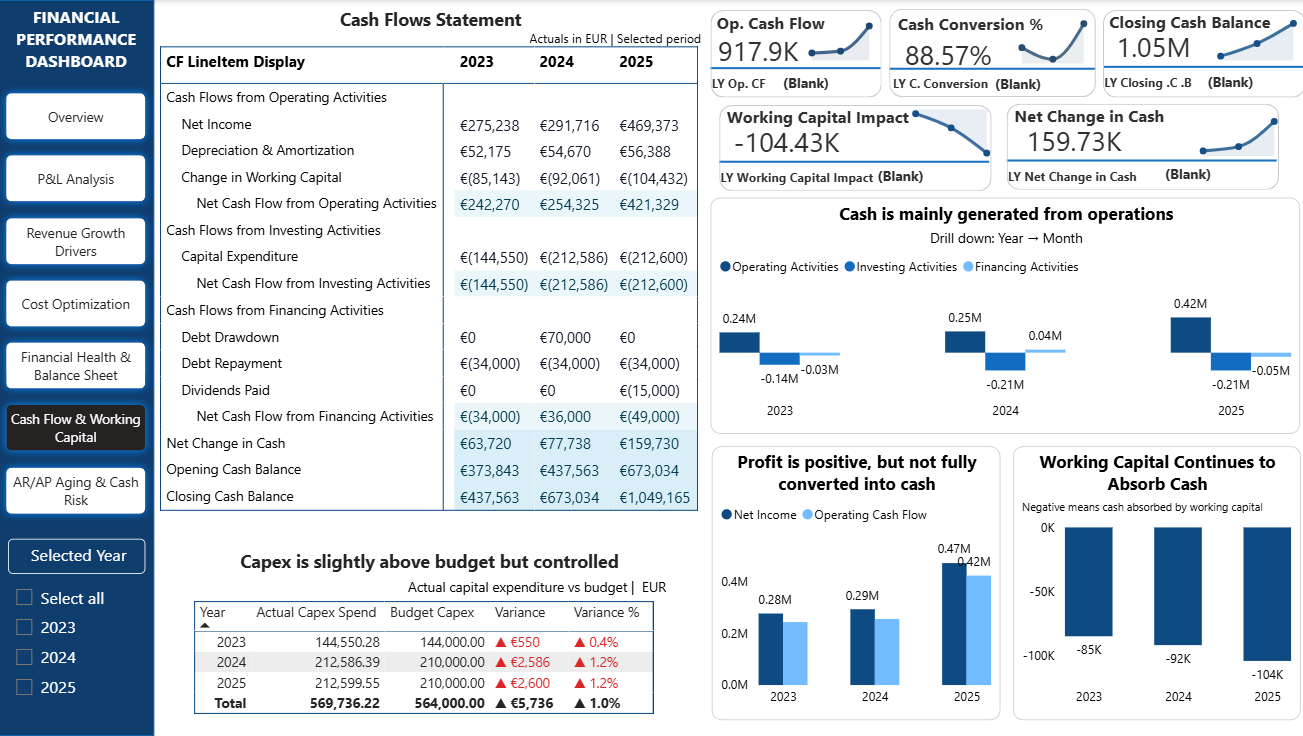

This screenshot's page, from the dashboard's own definition file:
{"tool":"powerbi","page":{"name":"Cash Flow & Working Capital","canvas":[1280,720],"ordinal":5},"visuals":[{"type":"shape","box":[0,0,152.9,720.2],"z":0,"group":"g6"},{"type":"pivotTable","title":"Cash Flows Statement ","fields":{"Columns":["Dim_Date.Year"],"Rows":["Template_CF.CF LineItem Display"],"Values":["_Measures.CF Display"]},"box":[152.7,6.2,544.4,508.9],"z":0},{"type":"textbox","box":[0,0,152.9,83.2],"z":1000,"group":"g6"},{"type":"card","fields":{"Values":["_Measures.Closing Cash Balance"]},"box":[1081.2,27.9,94.6,37.7],"z":1000,"group":"g8"},{"type":"card","fields":{"Values":["_Measures.Operating Cash Flow"]},"box":[697.1,34.3,88.9,33.3],"z":1000,"group":"g7"},{"type":"card","fields":{"Values":["_Measures.Cash Conversion %"]},"box":[880.6,38.7,93.9,31.1],"z":1000,"group":"g9"},{"type":"card","fields":{"Values":["_Measures.Net Change in Cash Card"]},"box":[987.1,119.7,127.2,37.2],"z":1000,"group":"g10"},{"type":"card","fields":{"Values":["_Measures.Change in Working Capital Card"]},"box":[705.8,121.3,127.2,37.2],"z":1000,"group":"g11"},{"type":"tableEx","title":"Capex is slightly above budget but controlled","fields":{"Values":["Dim_Date.Year","_Measures.Actual Capex Spend","_Measures.Budget Capex","_Measures.Capex Variance Display","_Measures.Capex Variance % Display"]},"box":[184.6,536.8,473.2,167.5],"z":1000},{"type":"group","id":"g1","title":"Group 8","box":[697,0,167.5,100.3],"z":2000},{"type":"textbox","box":[1082.7,4.6,191,39],"z":2000,"group":"g8"},{"type":"textbox","box":[698.4,5.8,161.7,39.1],"z":2000,"group":"g7"},{"type":"textbox","box":[875.2,7.7,163.9,35.5],"z":2000,"group":"g9"},{"type":"pageNavigator","box":[0,83.2,152.9,431.7],"z":2000,"group":"g6"},{"type":"textbox","box":[989.1,96.7,256.9,38.5],"z":2000,"group":"g10"},{"type":"textbox","box":[707.8,98.3,256.9,38.5],"z":2000,"group":"g11"},{"type":"group","id":"g2","title":"Group 8","box":[871.9,6.1,204.2,92.9],"z":3000},{"type":"textbox","box":[9.8,527,134.5,34.2],"z":3000,"group":"g6"},{"type":"lineChart","fields":{"Category":["Dim_Date.Year"],"Y":["_Measures.Operating Cash Flow"]},"box":[781.2,0,81.1,59.2],"z":4000,"group":"g7"},{"type":"group","id":"g3","title":"Group 8","box":[1081,1.2,199.3,98.1],"z":4000},{"type":"lineChart","fields":{"Category":["Dim_Date.Year"],"Y":["_Measures.Closing Cash Balance"]},"box":[1180.7,1.2,96.2,58.2],"z":4000,"group":"g8"},{"type":"lineChart","fields":{"Category":["Dim_Date.Year"],"Y":["_Measures.Cash Conversion %"]},"box":[987.1,6.1,85.6,56.3],"z":4000,"group":"g9"},{"type":"lineChart","fields":{"Category":["Dim_Date.Year"],"Y":["_Measures.Net Change in Cash Card"]},"box":[1164.6,92.9,94.5,60],"z":4000,"group":"g10"},{"type":"lineChart","fields":{"Category":["Dim_Date.Year"],"Y":["_Measures.Change in Working Capital Card"]},"box":[883.3,94.5,94.5,60],"z":4000,"group":"g11"},{"type":"slicer","fields":{"Values":["Dim_Date.Year"]},"box":[9.8,569.8,134.5,150.4],"z":4000,"group":"g6"},{"type":"group","id":"g4","title":"Group 8","box":[705.5,94.5,272.7,96.4],"z":5000},{"type":"textbox","box":[1082.3,66.1,114.8,33.2],"z":6000,"group":"g8"},{"type":"textbox","box":[698.1,67.5,97.2,33.3],"z":6000,"group":"g7"},{"type":"textbox","box":[875.1,67.6,97.8,30.6],"z":6000,"group":"g9"},{"type":"group","id":"g5","title":"Group 8","box":[986.8,92.9,272.7,96.6],"z":6000},{"type":"textbox","box":[988.5,157.3,154.4,32.7],"z":6000,"group":"g10"},{"type":"textbox","box":[707.2,158.9,154.4,32.7],"z":6000,"group":"g11"},{"type":"clusteredColumnChart","title":"Cash is mainly generated from operations","fields":{"Category":["Dim_Date.Year-Month.Variation.Date Hierarchy.Year","Dim_Date.Year-Month.Variation.Date Hierarchy.Quarter","Dim_Date.Year-Month.Variation.Date Hierarchy.Month"],"Y":["_Measures.Net Cash Flow from Operating Activities","_Measures.Net Cash Flow from Investing Activities","_Measures.Net Cash Flow from Financing Activities"]},"box":[697,193.2,577.2,231.1],"z":7000},{"type":"card","fields":{"Values":["_Measures.LY Operating Cash Flow"]},"box":[1175.6,65,60.8,28.7],"z":8000,"group":"g8"},{"type":"card","fields":{"Values":["_Measures.LY Operating Cash Flow"]},"box":[757.7,66.5,64.5,28.9],"z":8000,"group":"g7"},{"type":"card","fields":{"Values":["_Measures.LY EBITDA Margin %"]},"box":[972.2,67.2,51.4,26.9],"z":8000,"group":"g9"},{"type":"card","fields":{"Values":["_Measures.LY Net Change in Cash"]},"box":[1132,153.5,63.6,30.6],"z":8000,"group":"g10"},{"type":"card","fields":{"Values":["_Measures.LY Change in Working Capital"]},"box":[850.7,155.1,63.6,30.6],"z":8000,"group":"g11"},{"type":"clusteredColumnChart","title":"Profit is positive, but not fully converted into cash","fields":{"Category":["Dim_Date.Year-Month.Variation.Date Hierarchy.Year","Dim_Date.Year-Month.Variation.Date Hierarchy.Quarter","Dim_Date.Year-Month.Variation.Date Hierarchy.Month"],"Y":["_Measures.CF Net Income","_Measures.Net Cash Flow from Operating Activities"]},"box":[698.2,436.6,282.5,267.8],"z":8000},{"type":"card","fields":{"Values":["_Measures.Operating Cash Flow Display"]},"box":[807.8,66.6,57.8,35.5],"z":9000,"group":"g1"},{"type":"card","fields":{"Values":["_Measures.EBITDA Margin Display"]},"box":[1018.6,68.5,58.7,29.3],"z":9000,"group":"g2"},{"type":"card","fields":{"Values":["_Measures.Closing Cash Balance Display"]},"box":[1224.7,71.2,55.6,21.2],"z":9000,"group":"g3"},{"type":"card","fields":{"Values":["_Measures.Net Change in Cash Display"]},"box":[1180,162.4,74.8,20.9],"z":9000,"group":"g5"},{"type":"card","fields":{"Values":["_Measures.Change in WC Display"]},"box":[898.7,164,74.8,20.9],"z":9000,"group":"g4"},{"type":"clusteredColumnChart","title":"Working Capital Continues to Absorb Cash","fields":{"Category":["Dim_Date.Year-Month.Variation.Date Hierarchy.Year","Dim_Date.Year-Month.Variation.Date Hierarchy.Quarter","Dim_Date.Year-Month.Variation.Date Hierarchy.Month"],"Y":["_Measures.CF Change in Working Capital"]},"box":[992.9,436.6,281.3,267.8],"z":9000},{"type":"group","id":"g6","title":"Group 1","box":[0,0,152.9,720.2],"z":10000},{"type":"shape","box":[1081,59.1,196.5,13.4],"z":10000,"group":"g8"},{"type":"shape","box":[871.9,59.9,201.8,14.7],"z":10000,"group":"g9"},{"type":"shape","box":[697,60.5,166.3,13.5],"z":10000,"group":"g7"},{"type":"shape","box":[986.8,150.4,264.2,13.2],"z":10000,"group":"g10"},{"type":"shape","box":[705.5,152,264.2,13.2],"z":10000,"group":"g11"},{"type":"shape","box":[872.2,8.9,202,86.4],"z":11000,"group":"g9"},{"type":"shape","box":[1081,9.5,198.1,85.6],"z":11000,"group":"g8"},{"type":"shape","box":[697,10.3,167.5,85.6],"z":11000,"group":"g7"},{"type":"shape","box":[986.8,101.5,266.4,84.3],"z":11000,"group":"g10"},{"type":"shape","box":[705.5,103.1,266.4,84.3],"z":11000,"group":"g11"},{"type":"group","id":"g7","title":"Group 3","box":[697,0,167.5,100.8],"z":11004,"group":"g1"},{"type":"group","id":"g8","title":"Group 3","box":[1081,1.2,198.1,98.1],"z":11004,"group":"g3"},{"type":"group","id":"g9","title":"Group 3","box":[871.9,6.1,202.3,92.1],"z":11004,"group":"g2"},{"type":"group","id":"g10","title":"Group 3","box":[986.8,92.9,272.3,97.1],"z":11004,"group":"g5"},{"type":"group","id":"g11","title":"Group 3","box":[705.5,94.5,272.3,97.1],"z":11004,"group":"g4"}]}

Visuals, with their boxes in screenshot pixels (x1, y1, x2, y2), scaled from the page's 1280x720 canvas onto the 1303x736 screenshot:
shape: bbox(0, 0, 156, 735)
"Cash Flows Statement " pivotTable: bbox(155, 6, 710, 527)
textbox: bbox(0, 0, 156, 85)
card - _Measures.Closing Cash Balance: bbox(1101, 29, 1197, 67)
card - _Measures.Operating Cash Flow: bbox(710, 35, 800, 69)
card - _Measures.Cash Conversion %: bbox(896, 40, 992, 71)
card - _Measures.Net Change in Cash Card: bbox(1005, 122, 1134, 160)
card - _Measures.Change in Working Capital Card: bbox(718, 124, 848, 162)
"Capex is slightly above budget but controlled" tableEx: bbox(188, 549, 670, 720)
"Group 8" group: bbox(710, 0, 880, 103)
textbox: bbox(1102, 5, 1297, 45)
textbox: bbox(711, 6, 876, 46)
textbox: bbox(891, 8, 1058, 44)
pageNavigator: bbox(0, 85, 156, 526)
textbox: bbox(1007, 99, 1268, 138)
textbox: bbox(721, 100, 982, 140)
"Group 8" group: bbox(888, 6, 1095, 101)
textbox: bbox(10, 539, 147, 574)
lineChart - Dim_Date.Year x _Measures.Operating Cash Flow: bbox(795, 0, 878, 61)
"Group 8" group: bbox(1100, 1, 1302, 102)
lineChart - Dim_Date.Year x _Measures.Closing Cash Balance: bbox(1202, 1, 1300, 61)
lineChart - Dim_Date.Year x _Measures.Cash Conversion %: bbox(1005, 6, 1092, 64)
lineChart - Dim_Date.Year x _Measures.Net Change in Cash Card: bbox(1186, 95, 1282, 156)
lineChart - Dim_Date.Year x _Measures.Change in Working Capital Card: bbox(899, 97, 995, 158)
slicer - Dim_Date.Year: bbox(10, 582, 147, 735)
"Group 8" group: bbox(718, 97, 996, 195)
textbox: bbox(1102, 68, 1219, 102)
textbox: bbox(711, 69, 810, 103)
textbox: bbox(891, 69, 990, 100)
"Group 8" group: bbox(1005, 95, 1282, 194)
textbox: bbox(1006, 161, 1163, 194)
textbox: bbox(720, 162, 877, 196)
"Cash is mainly generated from operations" clusteredColumnChart: bbox(710, 197, 1297, 434)
card - _Measures.LY Operating Cash Flow: bbox(1197, 66, 1259, 96)
card - _Measures.LY Operating Cash Flow: bbox(771, 68, 837, 98)
card - _Measures.LY EBITDA Margin %: bbox(990, 69, 1042, 96)
card - _Measures.LY Net Change in Cash: bbox(1152, 157, 1217, 188)
card - _Measures.LY Change in Working Capital: bbox(866, 159, 931, 190)
"Profit is positive, but not fully converted into cash" clusteredColumnChart: bbox(711, 446, 998, 720)
card - _Measures.Operating Cash Flow Display: bbox(822, 68, 881, 104)
card - _Measures.EBITDA Margin Display: bbox(1037, 70, 1097, 100)
card - _Measures.Closing Cash Balance Display: bbox(1247, 73, 1302, 94)
card - _Measures.Net Change in Cash Display: bbox(1201, 166, 1277, 187)
card - _Measures.Change in WC Display: bbox(915, 168, 991, 189)
"Working Capital Continues to Absorb Cash" clusteredColumnChart: bbox(1011, 446, 1297, 720)
"Group 1" group: bbox(0, 0, 156, 735)
shape: bbox(1100, 60, 1300, 74)
shape: bbox(888, 61, 1093, 76)
shape: bbox(710, 62, 879, 76)
shape: bbox(1005, 154, 1273, 167)
shape: bbox(718, 155, 987, 169)
shape: bbox(888, 9, 1094, 97)
shape: bbox(1100, 10, 1302, 97)
shape: bbox(710, 11, 880, 98)
shape: bbox(1005, 104, 1276, 190)
shape: bbox(718, 105, 989, 192)
"Group 3" group: bbox(710, 0, 880, 103)
"Group 3" group: bbox(1100, 1, 1302, 102)
"Group 3" group: bbox(888, 6, 1094, 100)
"Group 3" group: bbox(1005, 95, 1282, 194)
"Group 3" group: bbox(718, 97, 995, 196)
